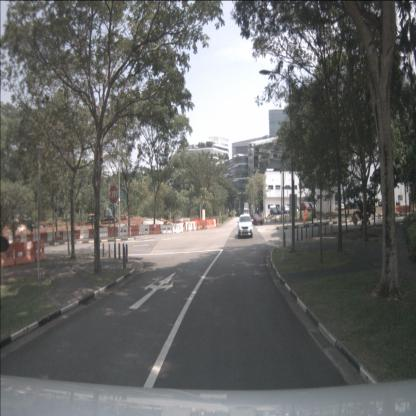movable_object-barrier: (13, 241, 36, 266), (1, 243, 16, 268), (32, 240, 46, 262), (138, 224, 150, 235), (128, 225, 139, 236), (117, 225, 128, 236), (184, 221, 196, 231), (161, 224, 172, 234), (149, 225, 161, 234), (172, 224, 184, 233), (108, 227, 118, 237), (88, 229, 99, 238), (190, 217, 200, 226), (99, 228, 108, 237), (63, 231, 72, 240), (182, 217, 191, 226), (80, 229, 89, 238), (55, 231, 63, 241), (199, 220, 207, 230), (206, 219, 214, 229), (47, 232, 55, 242), (72, 230, 80, 240), (26, 234, 34, 244), (40, 233, 48, 242), (33, 234, 41, 243), (193, 220, 200, 230), (8, 235, 15, 244), (21, 235, 28, 244), (15, 235, 21, 245), (395, 205, 402, 213), (212, 218, 216, 228), (216, 218, 220, 227), (407, 205, 412, 211), (401, 206, 406, 212)
movable_object-trafficcone: (182, 226, 186, 233)
vehicle-car: (238, 214, 253, 239), (247, 214, 264, 226), (330, 202, 344, 211), (378, 198, 390, 207), (306, 202, 316, 212), (300, 202, 310, 212), (281, 205, 290, 214), (275, 207, 283, 215), (270, 207, 278, 215)
vehicle-motorcycle: (396, 199, 400, 206)
vehicle-truck: (244, 202, 249, 220)
